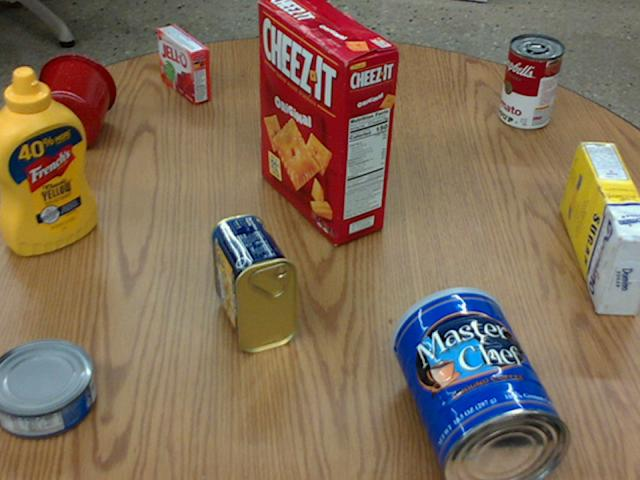cracker_box: (258, 0, 399, 243)
gelatin_box: (160, 25, 212, 104)
large_marker: (317, 0, 330, 63)
master_chef_can: (391, 286, 571, 479)
mug: (25, 54, 117, 150)
mustard_bottle: (0, 66, 97, 254)
potted_meat_can: (210, 214, 297, 353)
sugar_box: (561, 142, 639, 316)
tomato_soup_can: (499, 35, 564, 130)
tuna_fish_can: (0, 338, 94, 435)
